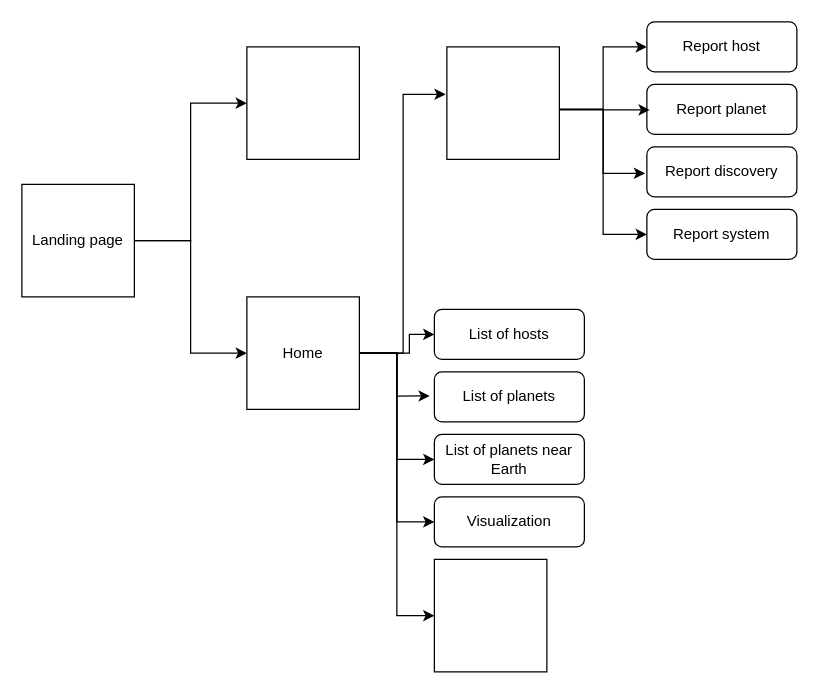
Some shapes in this 819 by 694 pixel diagram are drawn without their labels. Each missing label, with the centre of its shape:
Admin dashboard: pixel 302 102
API Endpoints: pixel 490 615
Report: pixel 502 102
